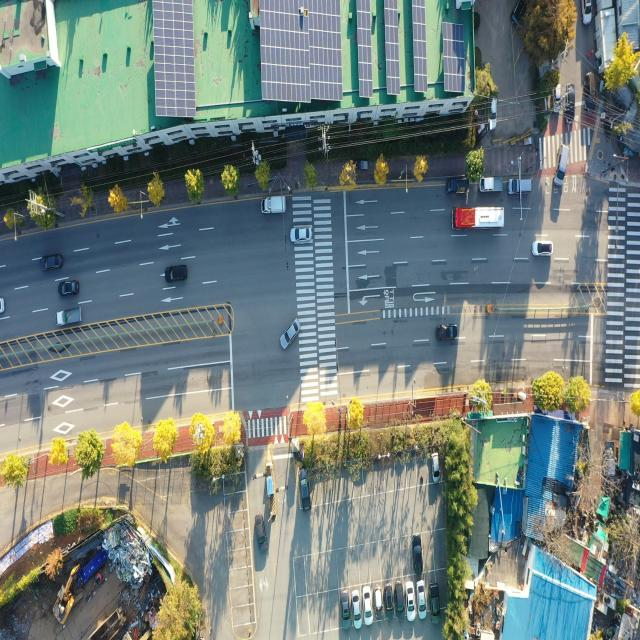car: (280, 321, 299, 351), (298, 466, 310, 506), (506, 181, 532, 198), (488, 91, 498, 130), (166, 266, 188, 283), (292, 228, 314, 244), (342, 590, 351, 628), (414, 537, 423, 575), (362, 589, 372, 623), (437, 324, 458, 340), (430, 582, 438, 622), (256, 515, 265, 550), (385, 583, 394, 618), (531, 242, 553, 256), (408, 582, 416, 620), (395, 580, 403, 618), (44, 257, 64, 272), (513, 0, 525, 25), (353, 592, 361, 629), (418, 583, 426, 619), (60, 281, 79, 296), (566, 87, 574, 120), (375, 587, 383, 619), (584, 0, 592, 26), (432, 453, 439, 482), (555, 86, 562, 112), (0, 299, 5, 315)
large_bus: (452, 207, 507, 230)
medium_truck: (85, 600, 130, 640)
small_truck: (554, 145, 570, 187), (584, 68, 596, 114), (263, 196, 288, 215), (56, 309, 82, 327), (481, 176, 504, 194), (448, 179, 469, 194)
